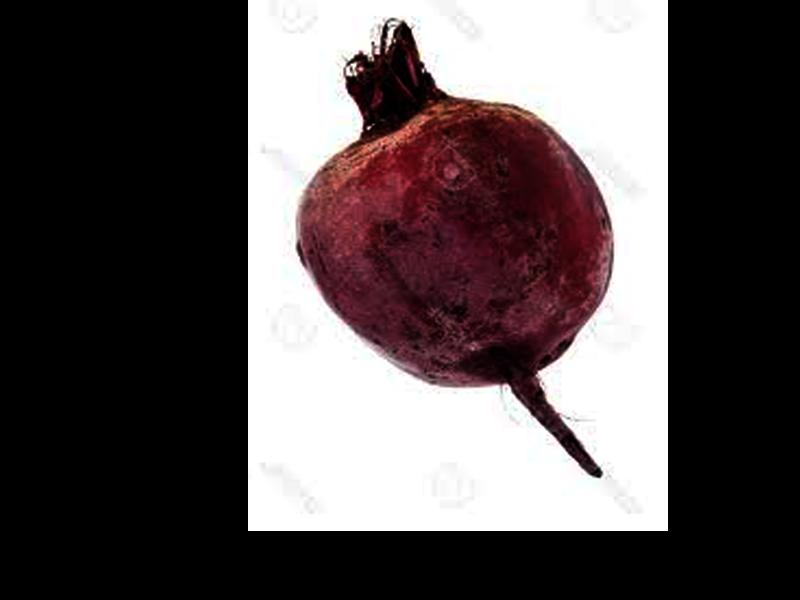Beet: (298, 19, 614, 477)
